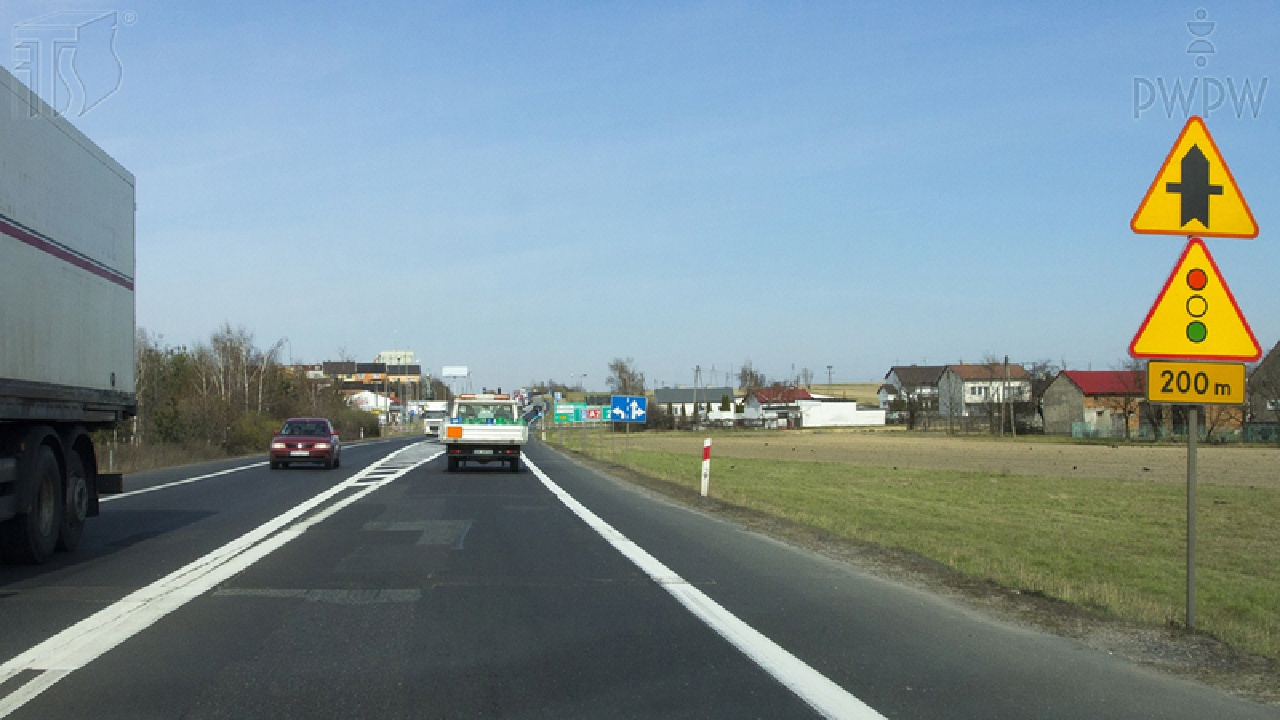A29: (1130, 237, 1261, 361)
A6a: (1129, 116, 1259, 241)
